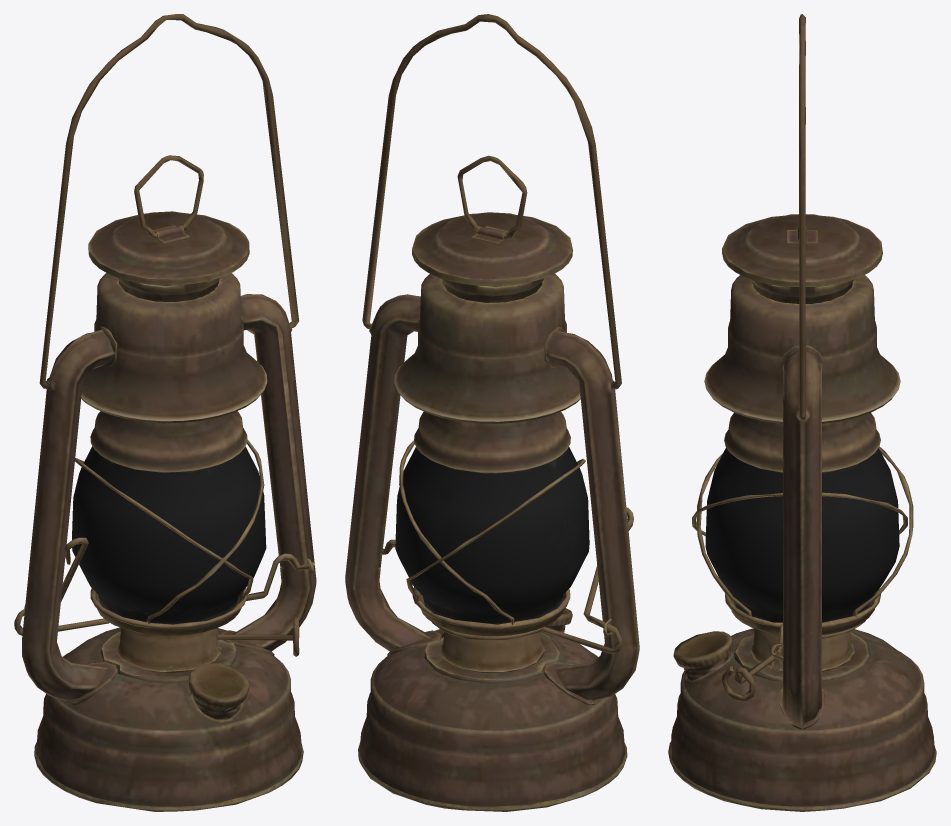
File: lantern.glb
3 views of the same model, side by side, from view 1: azimuth 30°, elevation 25°; view 2: azimuth 150°, elevation 25°; view 3: azimuth 270°, elevation 25° (orthographic).
Visible parts, largest first — view 1: Lantern_01, Lantern_01_glass; view 2: Lantern_01, Lantern_01_glass; view 3: Lantern_01, Lantern_01_glass.
Boxes of the visible parts, box(x1,y1,x2,y2) form: Lantern_01: box(14, 14, 316, 811); Lantern_01_glass: box(72, 446, 266, 624); Lantern_01: box(345, 14, 639, 811); Lantern_01_glass: box(395, 447, 589, 624); Lantern_01: box(668, 14, 936, 811); Lantern_01_glass: box(705, 447, 899, 622).
Bounding box in the file's own units: 0.1221 × 0.2938 × 0.097.
2 materials, 2 textured.
